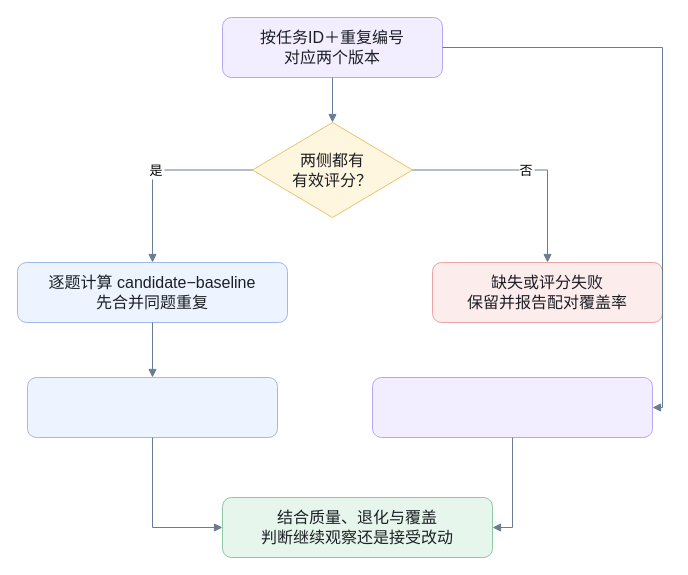
The diagram is 688 pixels wide and 575 high, and some of its shapes have lost their labels. The centre of each missing label's shape, as x and y in pixels:
"单列 Agent 延迟与用量 裁判开销另记，价格未知留空" belongs at point (512, 407).
"按题型查看失败 按题族重采样看波动" belongs at point (152, 407).
